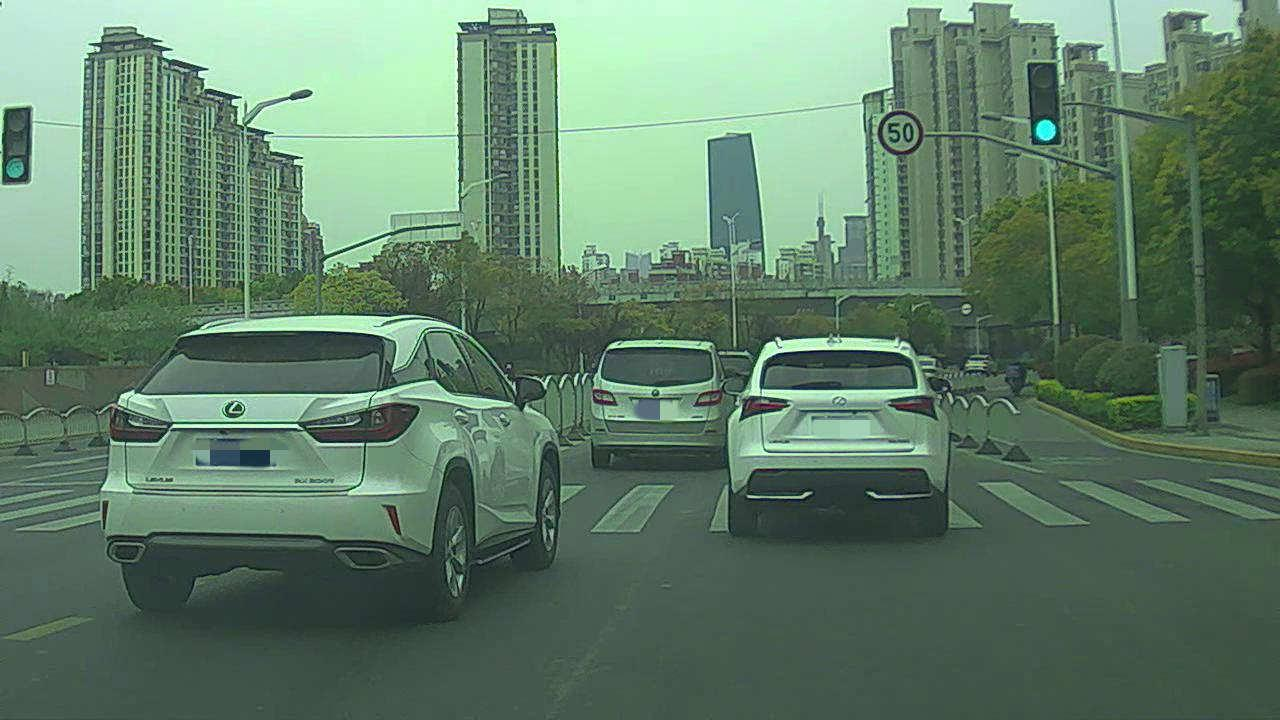traffic_light: (1027, 62, 1064, 146), (3, 105, 40, 187)
